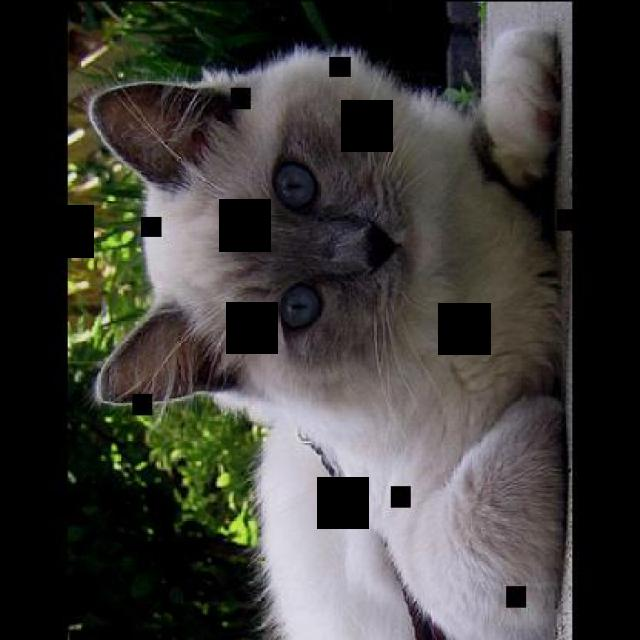unauthorized: (78, 27, 564, 638)
